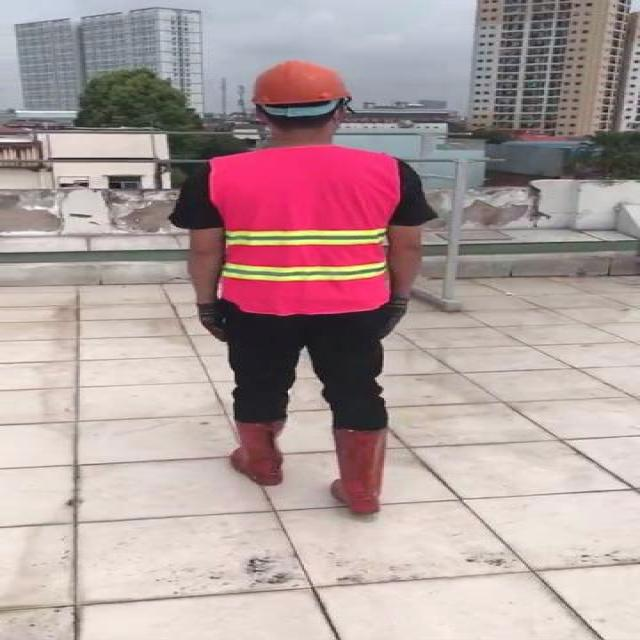boots: (329, 427, 389, 514), (229, 418, 290, 486)
hand_glove: (377, 299, 411, 339), (199, 299, 226, 345)
head_helmet: (244, 58, 358, 110)
person: (176, 58, 443, 527)
vest: (213, 147, 400, 315)
